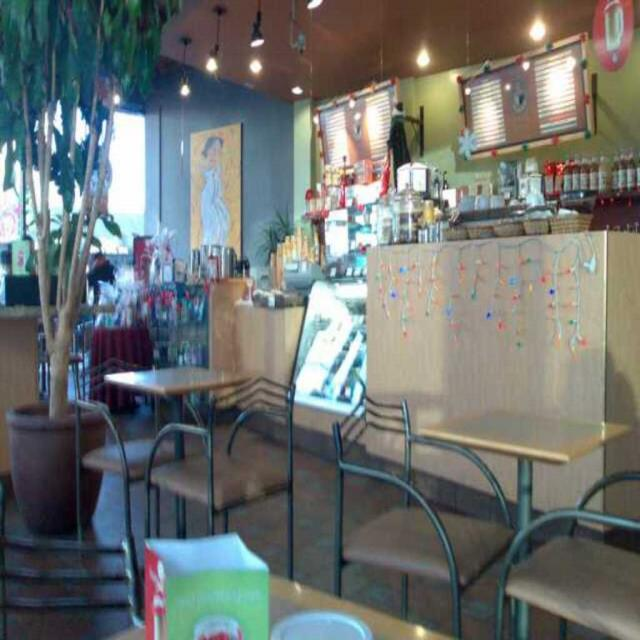chair: (333, 396, 516, 639), (496, 496, 640, 639)
desk: (85, 353, 291, 487)
